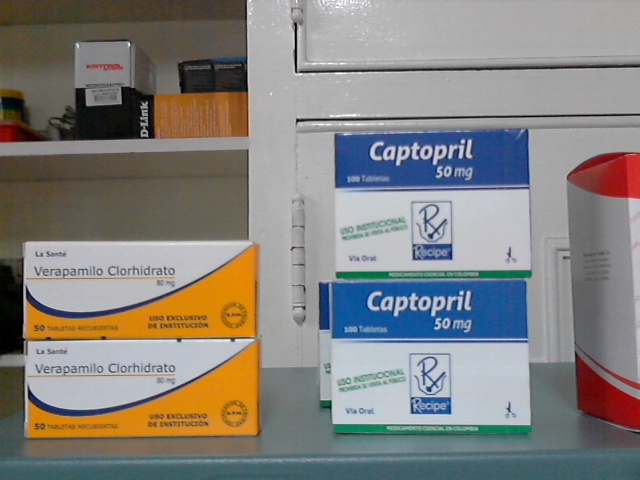LaSante: (27, 341, 256, 434), (28, 244, 255, 337)
